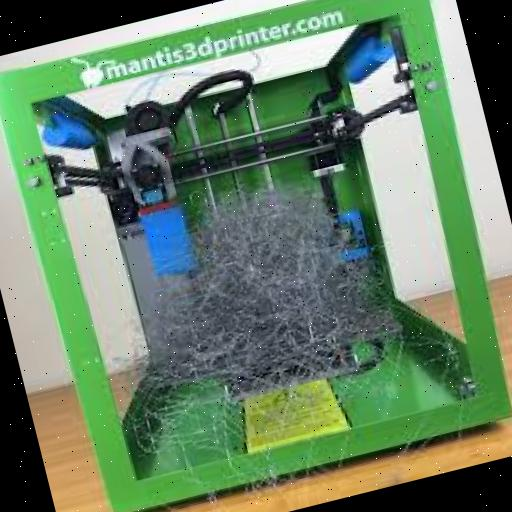spaghetti: (123, 148, 429, 452)
